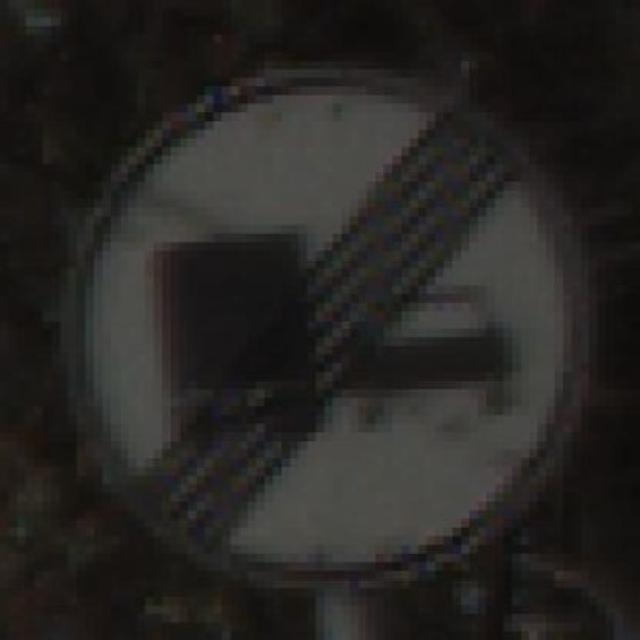Overtaking by trucks is prohibited: (26, 51, 614, 588)
